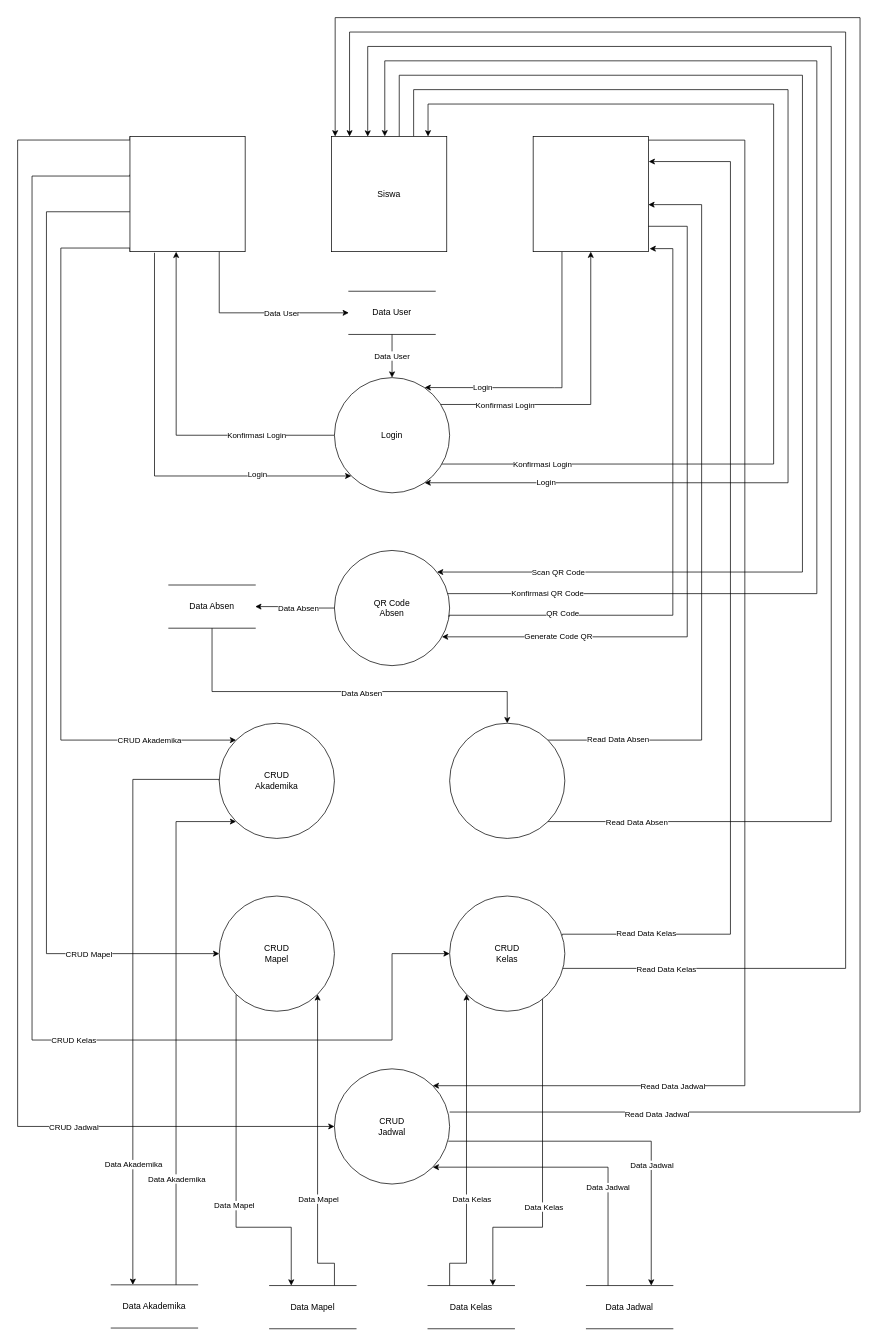
This 878x1341 diagram has some shape labels left out. Each missing label, with the centre of its shape:
Admin: point 187,194
CRUD Absen: point 507,780
Guru: point 590,194
